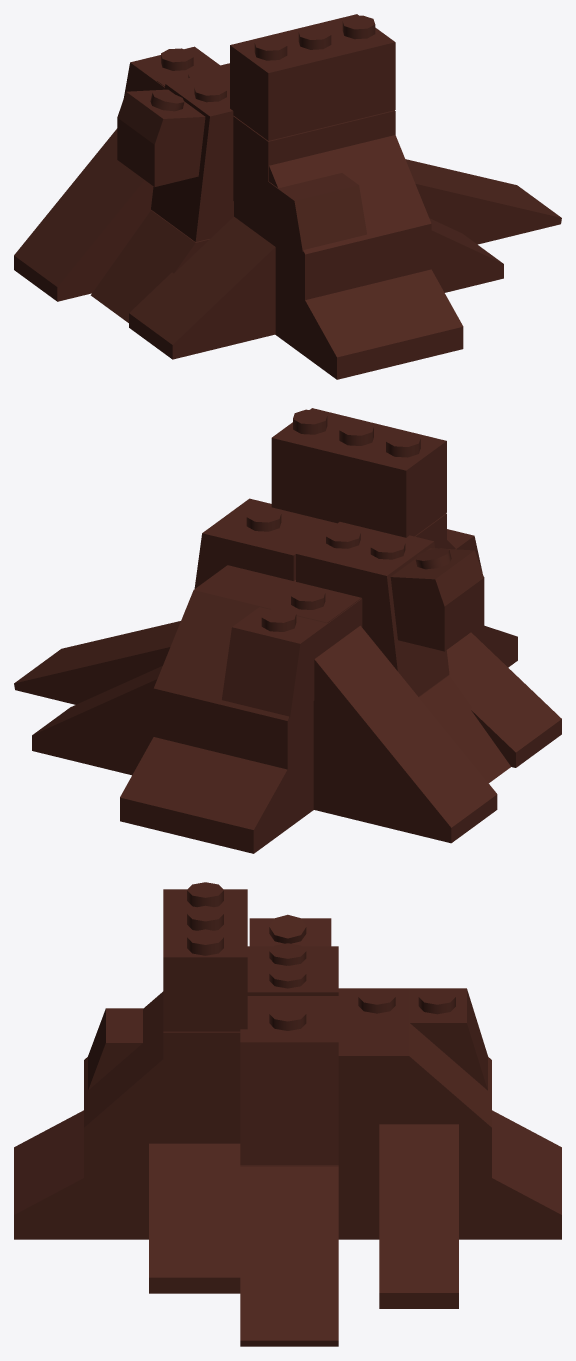
The model's file is log.FBX.
3 views of the same model, one above another, from view 1: azimuth 30°, elevation 25°; view 2: azimuth 150°, elevation 25°; view 3: azimuth 270°, elevation 25° (orthographic). The views are drawn at different scales.
Parts seen in each view (by area): view 1: Box004; view 2: Box004; view 3: Box004.
Boxes of the visible parts, box(x1,y1,x2,y2) form: Box004: box(14, 14, 561, 379); Box004: box(14, 408, 561, 853); Box004: box(14, 882, 561, 1346).
Bounding box in the file's own units: 50.57 × 28.17 × 47.71.
